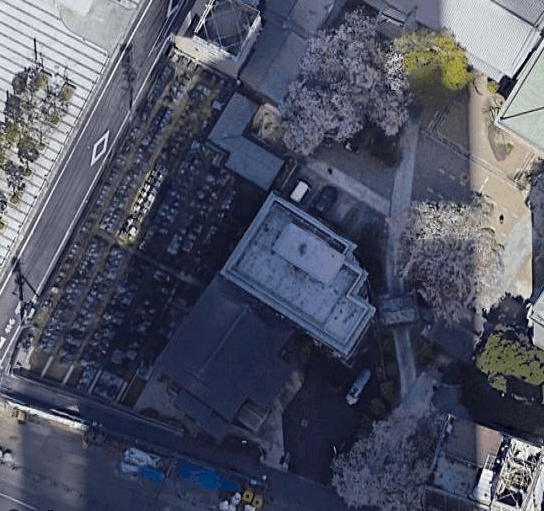facility: (423, 405, 540, 508), (196, 0, 262, 62)
flatroof: (211, 182, 404, 358)
